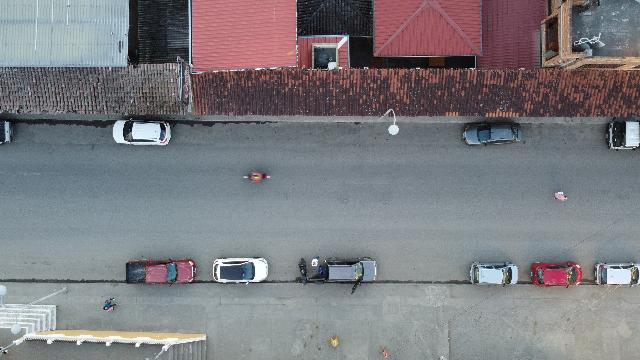Vehiculo: (125, 260, 195, 284), (113, 119, 171, 145), (212, 258, 268, 284), (462, 122, 522, 146), (325, 258, 378, 285), (531, 262, 581, 286), (470, 262, 519, 285), (606, 119, 640, 150), (595, 262, 640, 285)
